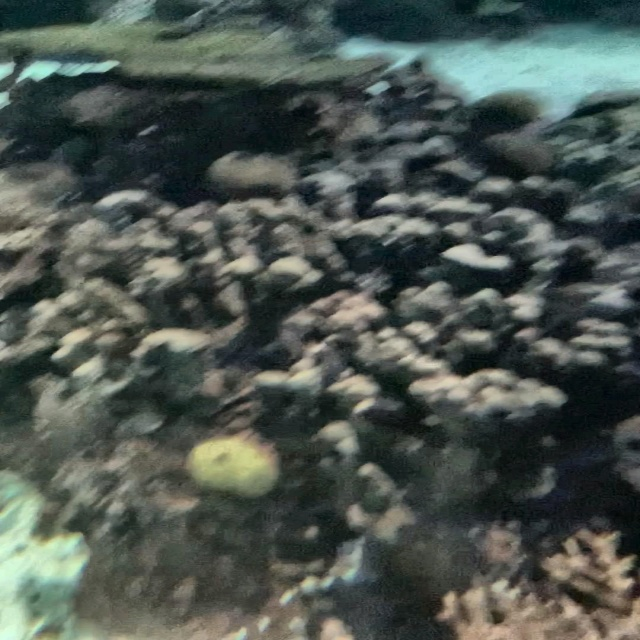fish: (183, 436, 287, 502)
